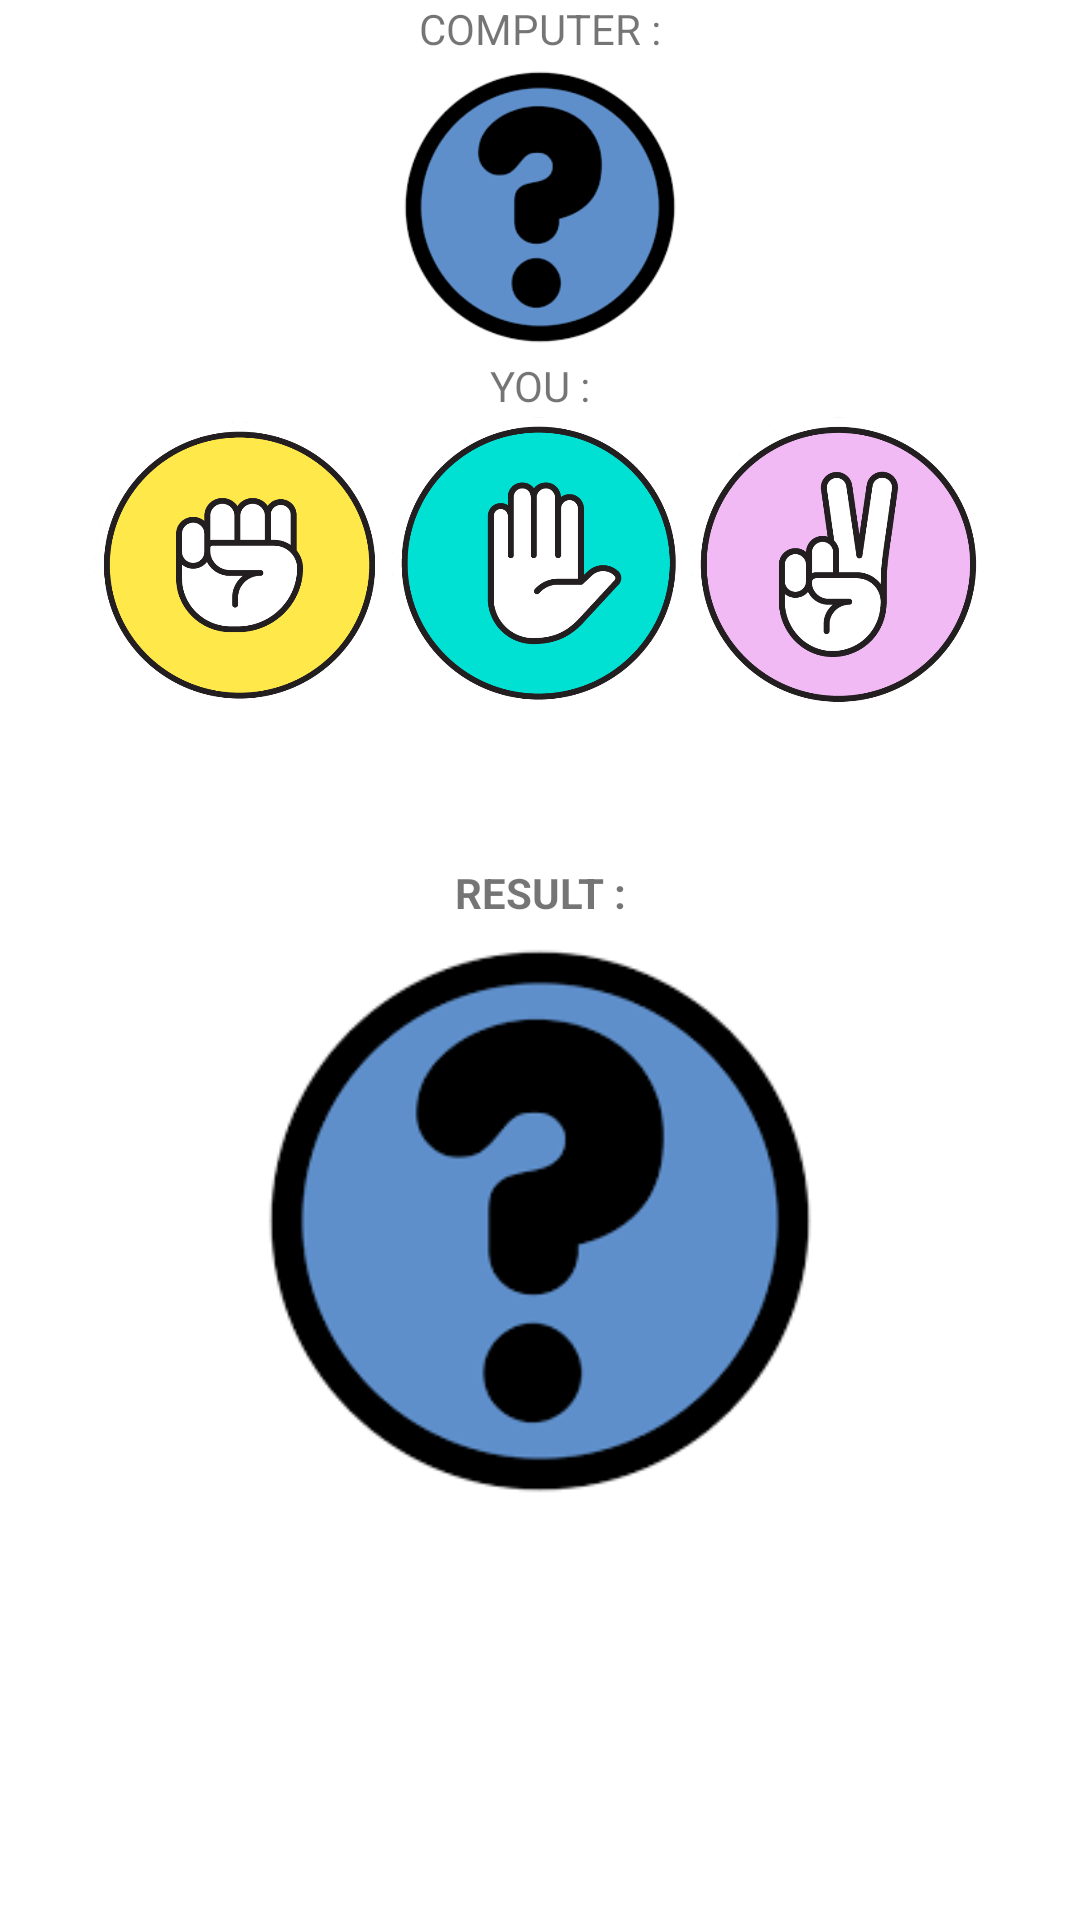

Screen size 1080*1920. Icon name, then its box in pixels as region(x1, y1, x2, y2):
paper: region(401, 426, 676, 700)
rock: region(104, 431, 375, 699)
scisssors: region(700, 427, 976, 702)
